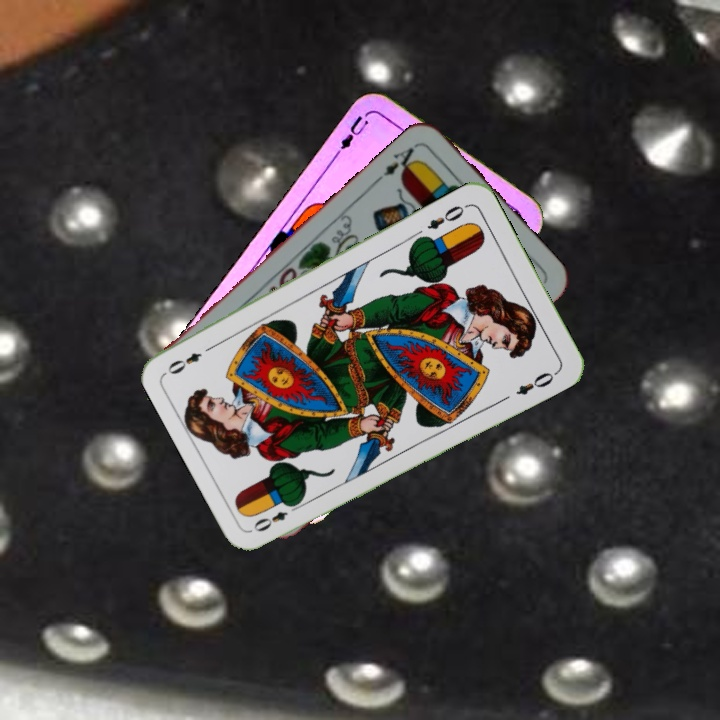EA: (373, 143, 422, 184)
EO: (249, 499, 304, 535), (423, 200, 471, 232)
EU: (336, 111, 371, 152)
